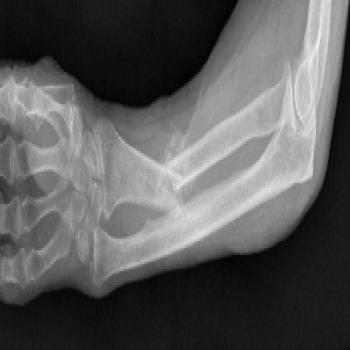Fracture: (163, 142, 177, 214)
